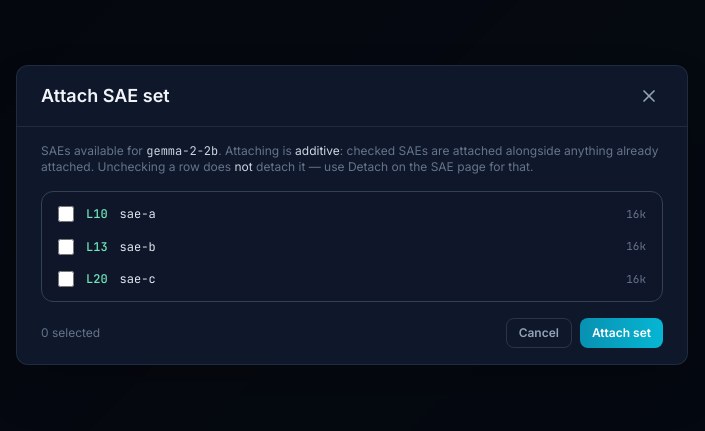
AttachSetDialog › presents the VRAM budget as advisory, not as a refusal
Step 1. Click the button "Attach set" → [621, 333], box [580,318,663,348]
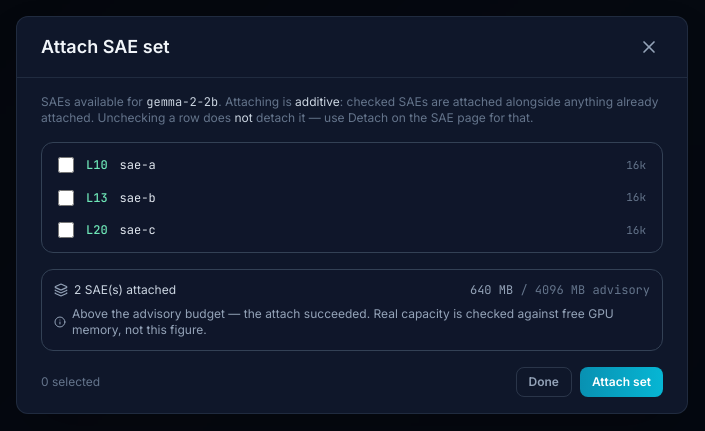
expect the element with test id "result-vram-warning" shows "succeeded": met, box [72,306,614,337]
expect the element with test id "result-vram-warning" shows "advisory": met, box [72,306,614,337]
